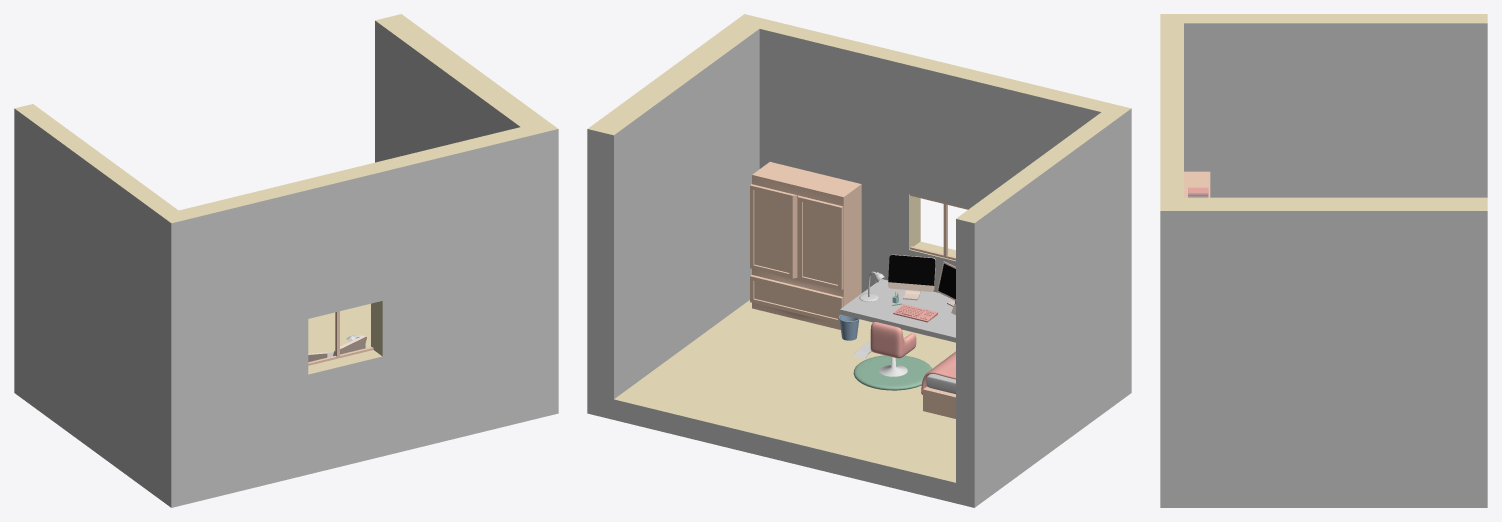
Rendered from Study_Room_10.glb.
3 views of the same model, side by side, from view 1: azimuth 30°, elevation 25°; view 2: azimuth 150°, elevation 25°; view 3: azimuth 270°, elevation 25° (orthographic). The views are drawn at different scales.
Parts seen in each view (by area): view 1: Room; view 2: Room, Closet, Table Top, Rug, Desktop Screen, Chair, Bedframe; view 3: Room, Shelf.001.
Part boxes in pixels (bbox=[...]): Room: bbox=[14, 14, 558, 507]; Room: bbox=[587, 14, 1131, 507]; Closet: bbox=[750, 162, 861, 329]; Table Top: bbox=[840, 279, 955, 342]; Rug: bbox=[853, 355, 931, 390]; Desktop Screen: bbox=[888, 255, 935, 285]; Chair: bbox=[870, 322, 916, 358]; Bedframe: bbox=[923, 386, 955, 418]; Room: bbox=[1160, 14, 1487, 507]; Shelf.001: bbox=[1184, 171, 1210, 197].
Bounding box in the file's own units: 27.72 × 19.48 × 19.48.
